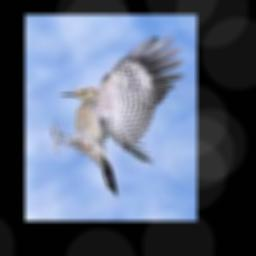Woodpecker: (49, 37, 185, 197)
